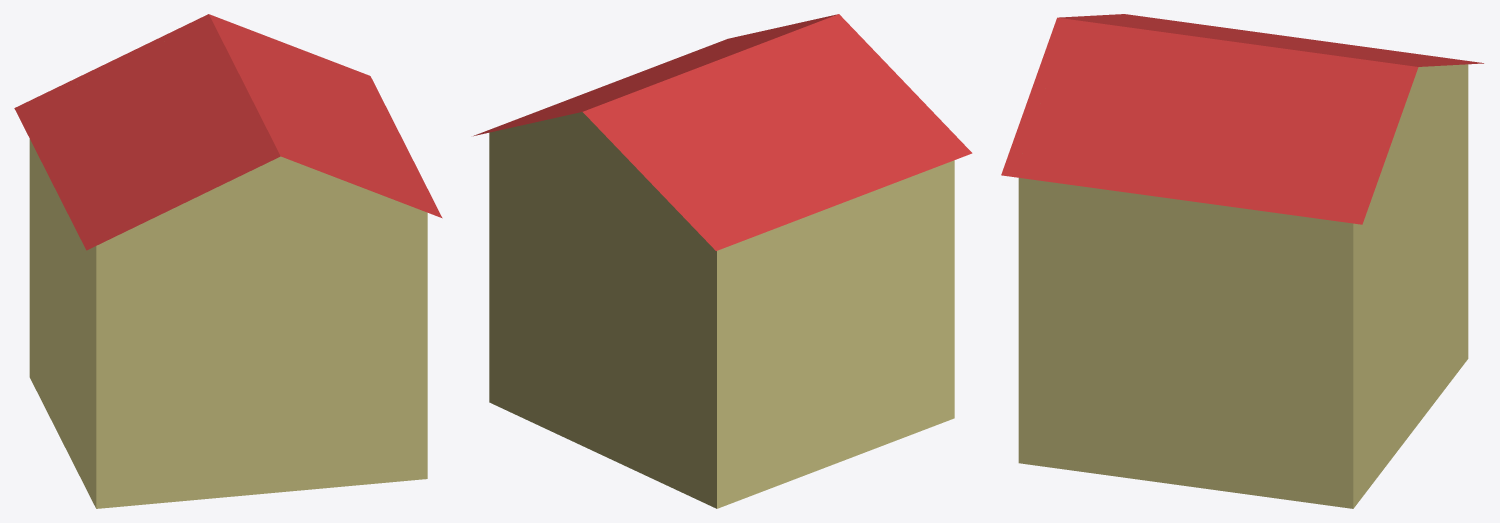
The picture shows the model from 3 angles, left to right: view 1: azimuth 30°, elevation 25°; view 2: azimuth 150°, elevation 25°; view 3: azimuth 270°, elevation 25°; orthographic projection. The views are drawn at different scales.
Size of the model in its own units: 8.88 by 8.63 by 7.39.
